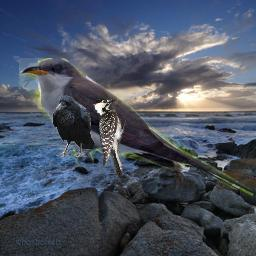Crow: (52, 95, 95, 157)
Cuckoo: (19, 58, 253, 199)
Woodpecker: (89, 97, 128, 180)
